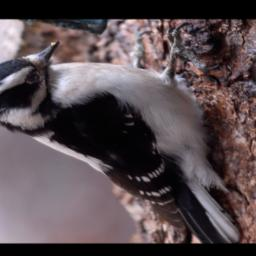Woodpecker: (0, 37, 245, 241)
